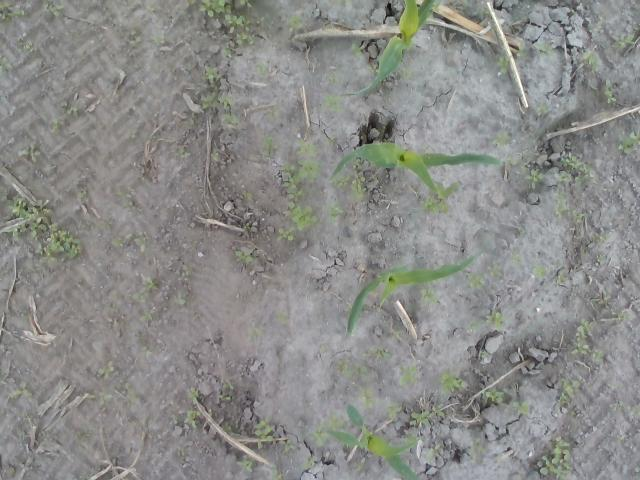Maize: (344, 255, 474, 335), (329, 142, 504, 201), (336, 0, 441, 96), (326, 403, 417, 480)
Weeds: (0, 190, 89, 271), (281, 138, 322, 198), (536, 435, 574, 480), (312, 412, 350, 448), (556, 151, 594, 185), (286, 201, 320, 231), (0, 0, 33, 28), (336, 358, 368, 385), (411, 404, 446, 428), (224, 14, 266, 34), (572, 317, 594, 354), (439, 368, 466, 394), (558, 376, 581, 406), (352, 158, 368, 200), (617, 22, 640, 50), (419, 194, 448, 215), (254, 415, 273, 447), (202, 63, 225, 89), (617, 128, 640, 154), (200, 93, 234, 110), (9, 380, 34, 402), (15, 142, 42, 162), (198, 0, 232, 15), (176, 408, 200, 429), (398, 362, 418, 387), (363, 344, 393, 360), (526, 168, 546, 192), (553, 188, 569, 218), (360, 386, 380, 409), (258, 131, 278, 154), (602, 78, 617, 108), (97, 388, 113, 416), (60, 99, 81, 120), (581, 50, 601, 72), (482, 388, 513, 402), (320, 94, 344, 112), (237, 453, 257, 474), (486, 259, 506, 280), (486, 310, 506, 331), (417, 286, 440, 304), (232, 246, 254, 264), (492, 128, 514, 146), (466, 271, 488, 289), (327, 206, 347, 224), (42, 0, 64, 16), (470, 436, 483, 462), (276, 227, 298, 242), (129, 24, 142, 49), (246, 326, 264, 344), (16, 34, 34, 52), (288, 15, 306, 33), (425, 444, 441, 464), (510, 399, 530, 415), (222, 110, 242, 126), (128, 231, 146, 248), (279, 439, 297, 456), (400, 64, 418, 81), (385, 400, 401, 418), (142, 272, 160, 288), (610, 309, 632, 322), (270, 463, 286, 480), (496, 55, 511, 73), (96, 366, 115, 380), (331, 175, 352, 187), (235, 34, 256, 46), (536, 42, 554, 56), (118, 191, 133, 207), (264, 105, 280, 120), (509, 248, 522, 266), (467, 319, 482, 334), (350, 43, 366, 57), (536, 99, 552, 113), (593, 290, 609, 304), (222, 422, 240, 434), (302, 455, 316, 470), (571, 208, 585, 223), (49, 118, 62, 134), (186, 386, 199, 402), (75, 430, 92, 442), (239, 0, 259, 10), (272, 311, 290, 322), (532, 264, 546, 278), (176, 270, 192, 282), (152, 34, 168, 46), (592, 231, 608, 243), (405, 432, 418, 446), (356, 458, 369, 472), (505, 154, 520, 166), (334, 0, 353, 9), (128, 291, 145, 301), (175, 148, 192, 158), (175, 290, 187, 304), (556, 270, 568, 284), (590, 350, 604, 362), (479, 4, 491, 17), (126, 126, 137, 140), (629, 403, 640, 417), (254, 63, 269, 73), (209, 144, 218, 160), (72, 471, 88, 480), (446, 182, 458, 194), (112, 238, 126, 248), (146, 2, 158, 13), (593, 255, 605, 266), (144, 309, 154, 322), (392, 328, 402, 341), (590, 80, 598, 96), (518, 47, 529, 58), (176, 446, 186, 458), (0, 369, 7, 386), (0, 54, 9, 66), (185, 0, 198, 8), (222, 47, 232, 57), (608, 402, 618, 412), (324, 136, 336, 144), (220, 392, 232, 400), (327, 73, 337, 82), (479, 350, 488, 359), (367, 64, 377, 72), (242, 224, 252, 230), (223, 383, 232, 389)
